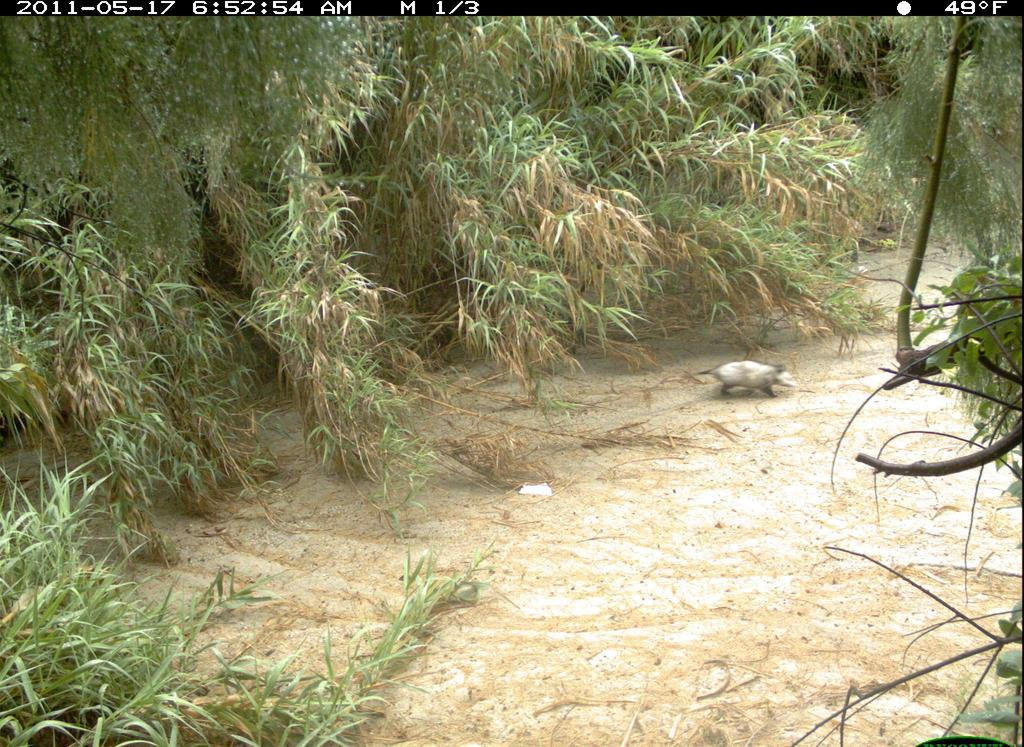opossum: (671, 354, 808, 406)
